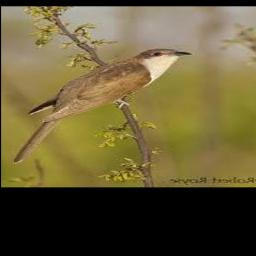Cuckoo: (13, 48, 193, 164)
